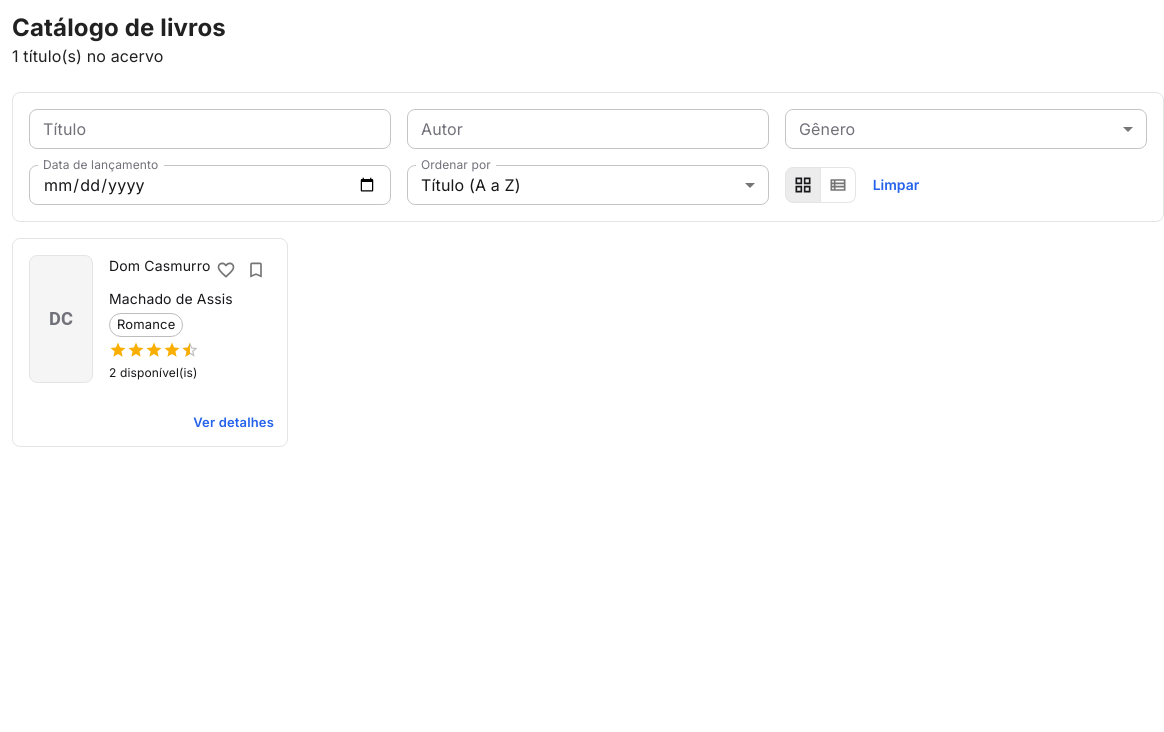
filtra por título na API e mostra o estado vazio
This screenshot has width=1164, height=732.
Expected: the heading "Dom Casmurro" is shown, [109,255,210,277]
Type "xyz" into the search field labelled "Título" at (210, 129), box [29,109,391,149]
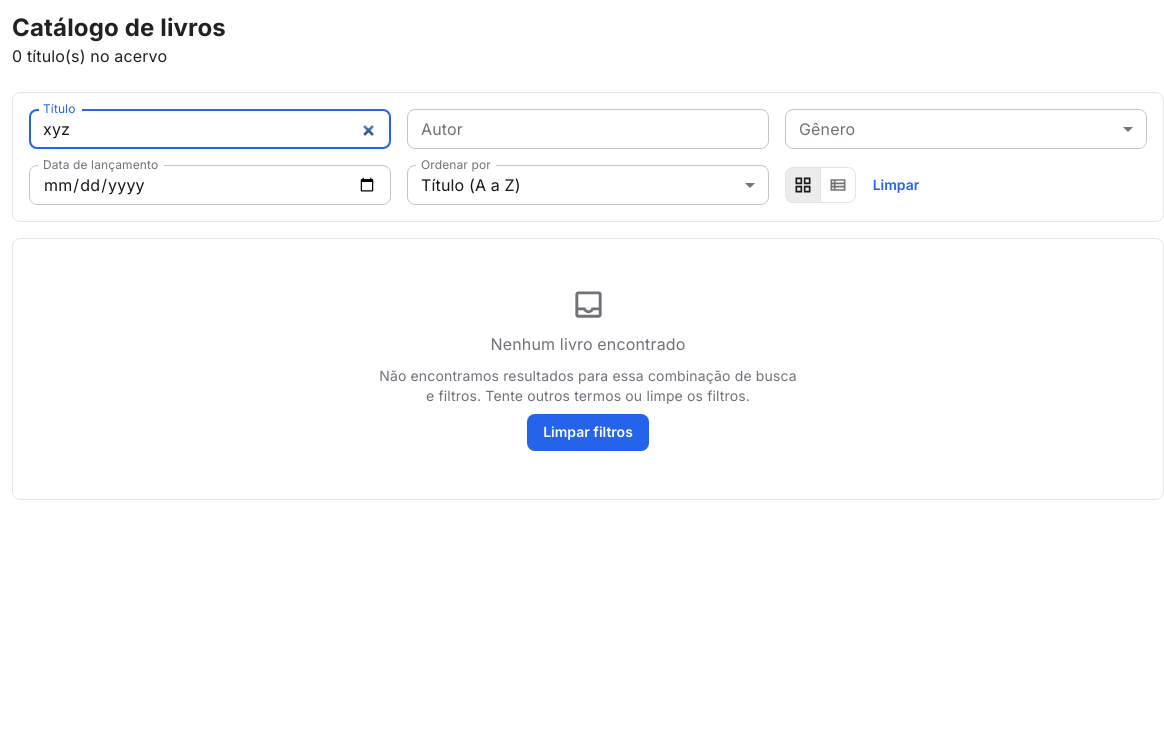
Now the heading "Nenhum livro encontrado" is shown, box [490,330,685,358]
